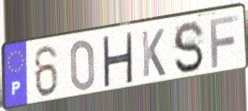0: (68, 38, 96, 93)
6: (33, 43, 61, 100)
F: (208, 13, 240, 70)
H: (101, 31, 134, 88)
K: (139, 27, 167, 80)
S: (171, 20, 206, 76)
